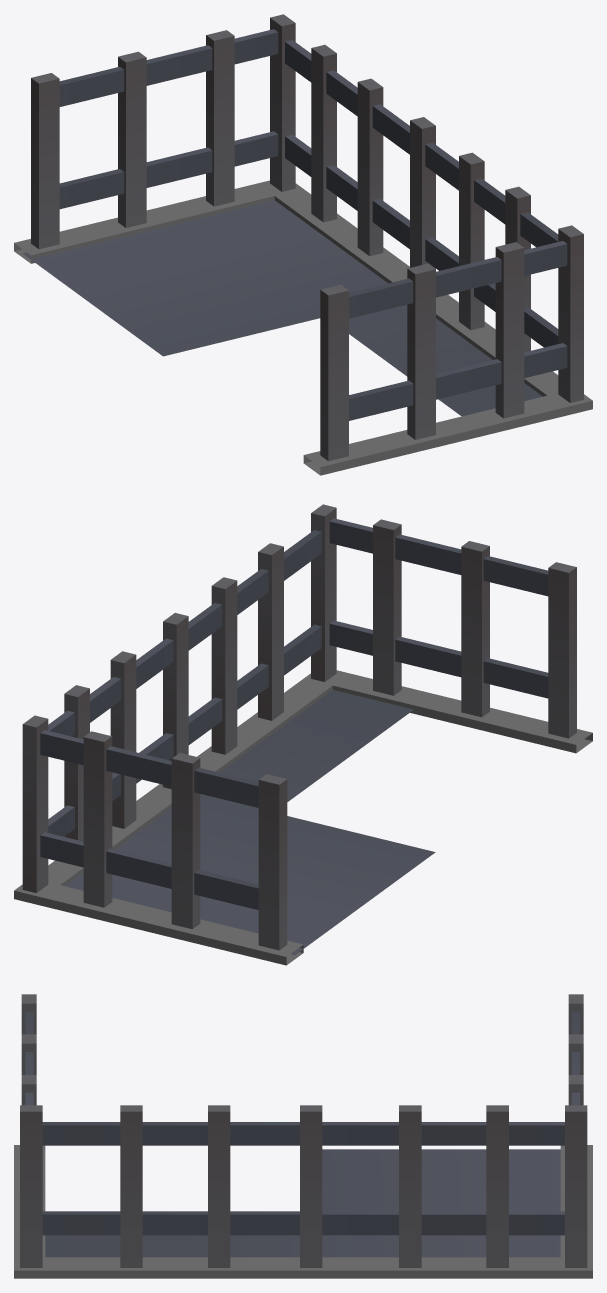
File: SM_House_Stairs_2B.FBX
The picture shows the model from 3 angles, top to bottom: view 1: azimuth 30°, elevation 25°; view 2: azimuth 150°, elevation 25°; view 3: azimuth 270°, elevation 25°; orthographic projection. The views are drawn at different scales.
Parts seen in each view (by area): view 1: SM_House_Stairs_2B; view 2: SM_House_Stairs_2B; view 3: SM_House_Stairs_2B.
Boxes of the visible parts, <box> form: SM_House_Stairs_2B: <box>14,14,592,475</box>; SM_House_Stairs_2B: <box>14,504,592,965</box>; SM_House_Stairs_2B: <box>14,994,592,1278</box>.
Size of what is drawn, in the model's own units: 168 by 327 by 103.
